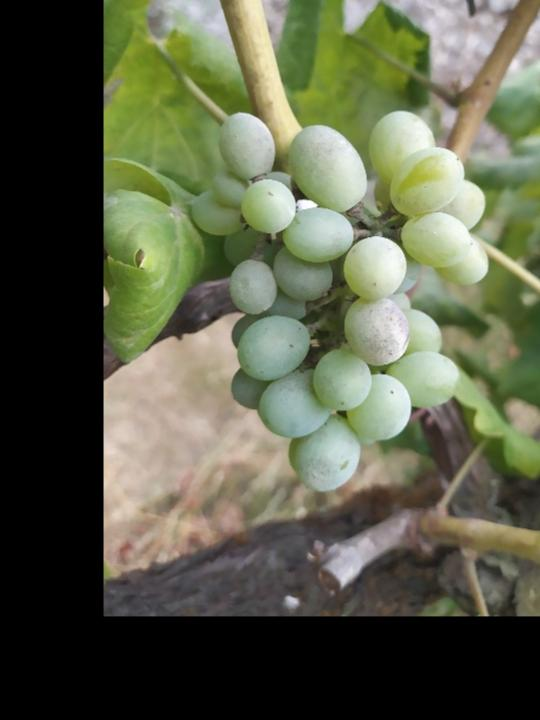grape: (186, 108, 493, 495)
